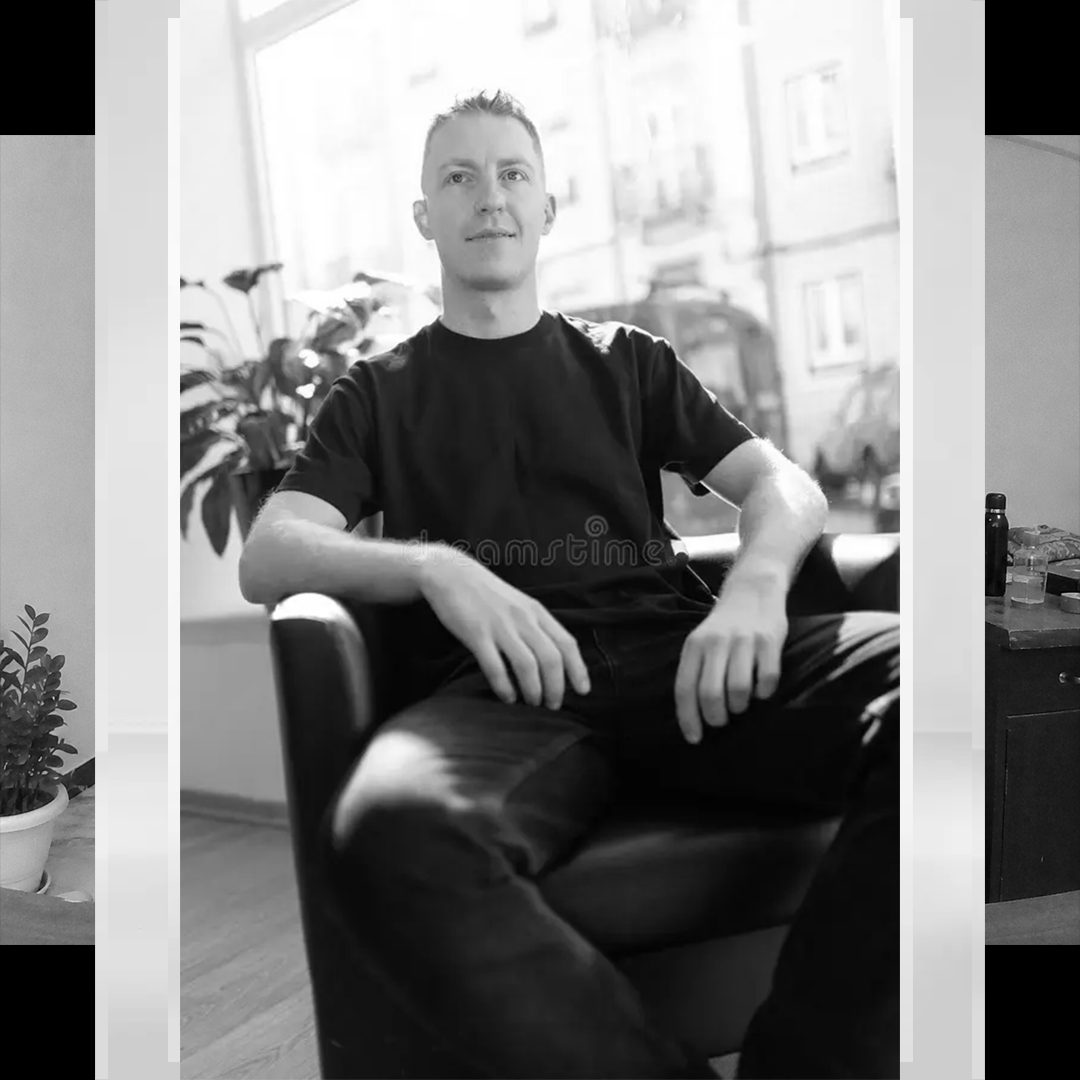distracted: (273, 50, 736, 723)
